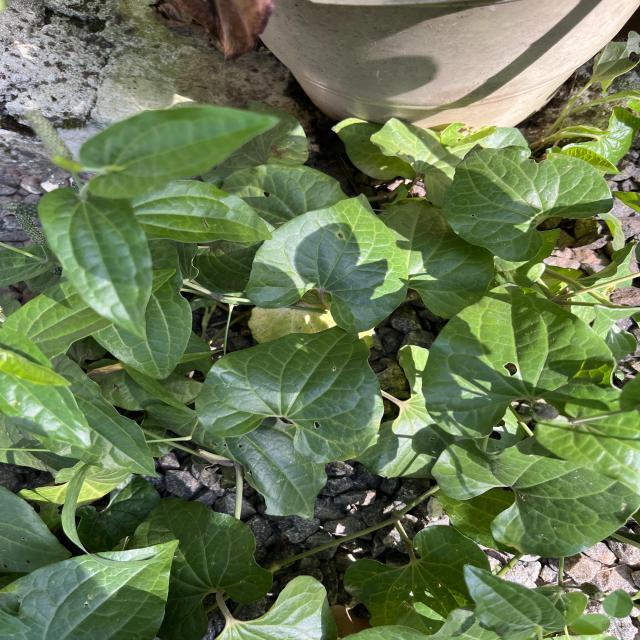Piper longum: (190, 325, 388, 467), (242, 192, 412, 336), (439, 140, 616, 264)
